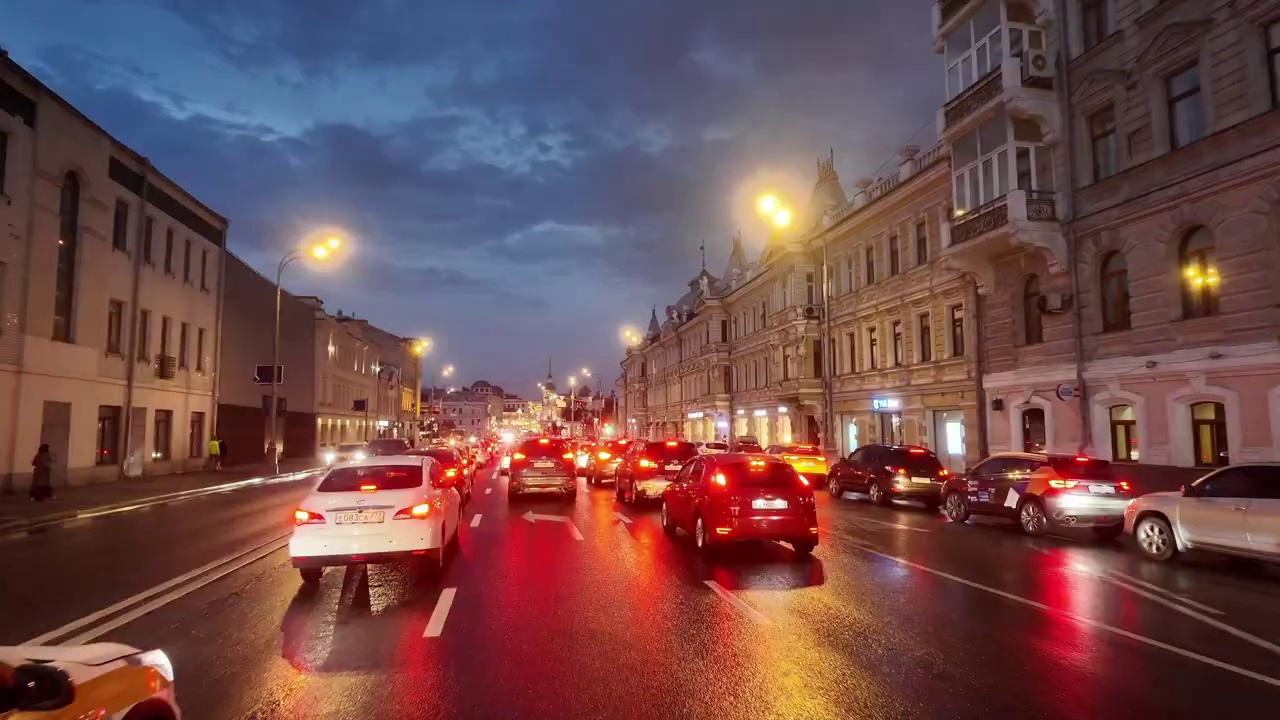acesa: (749, 187, 800, 236), (303, 230, 346, 266), (619, 323, 645, 349), (404, 335, 431, 360)
